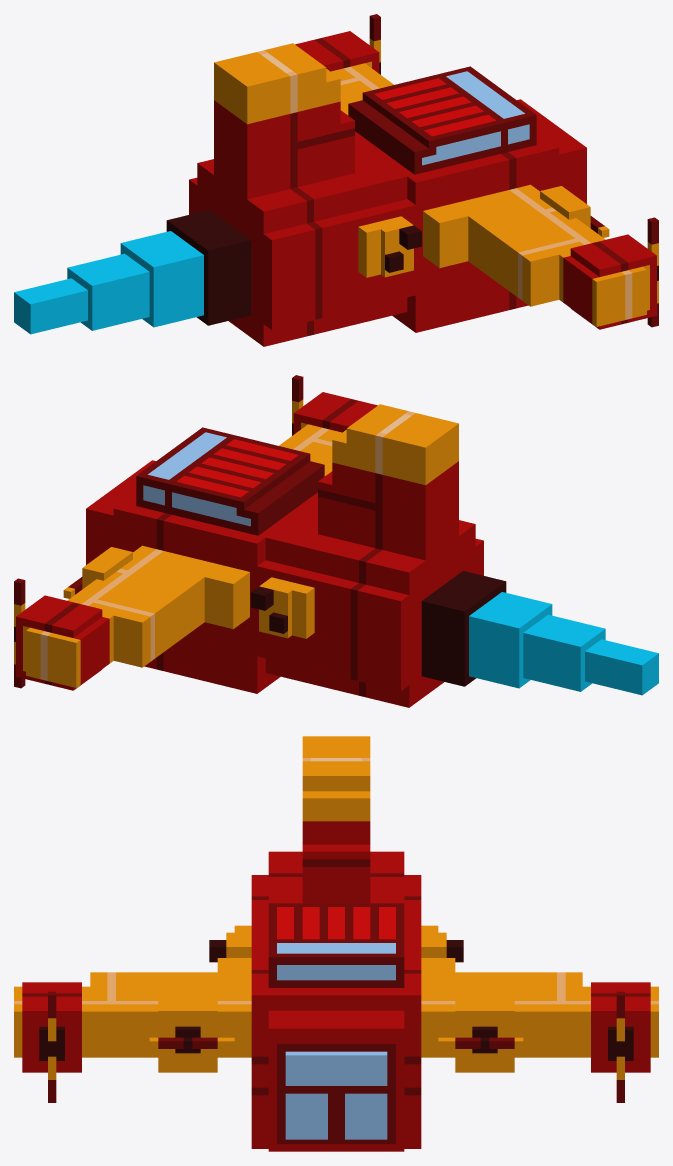
Rendered from avion.gltf.
The picture shows the model from 3 angles, top to bottom: view 1: azimuth 30°, elevation 25°; view 2: azimuth 150°, elevation 25°; view 3: azimuth 270°, elevation 25°; orthographic projection. The views are drawn at different scales.
Visible parts, largest first — view 1: Node1; view 2: Node1; view 3: Node1.
Boxes of the visible parts, left/top/right/bottom form: Node1: left=14, top=14, right=658, bottom=346; Node1: left=14, top=375, right=658, bottom=707; Node1: left=14, top=736, right=658, bottom=1151.
Bounding box in the file's own units: 0.0815 × 0.038 × 0.0826.
1 material, 1 textured.
